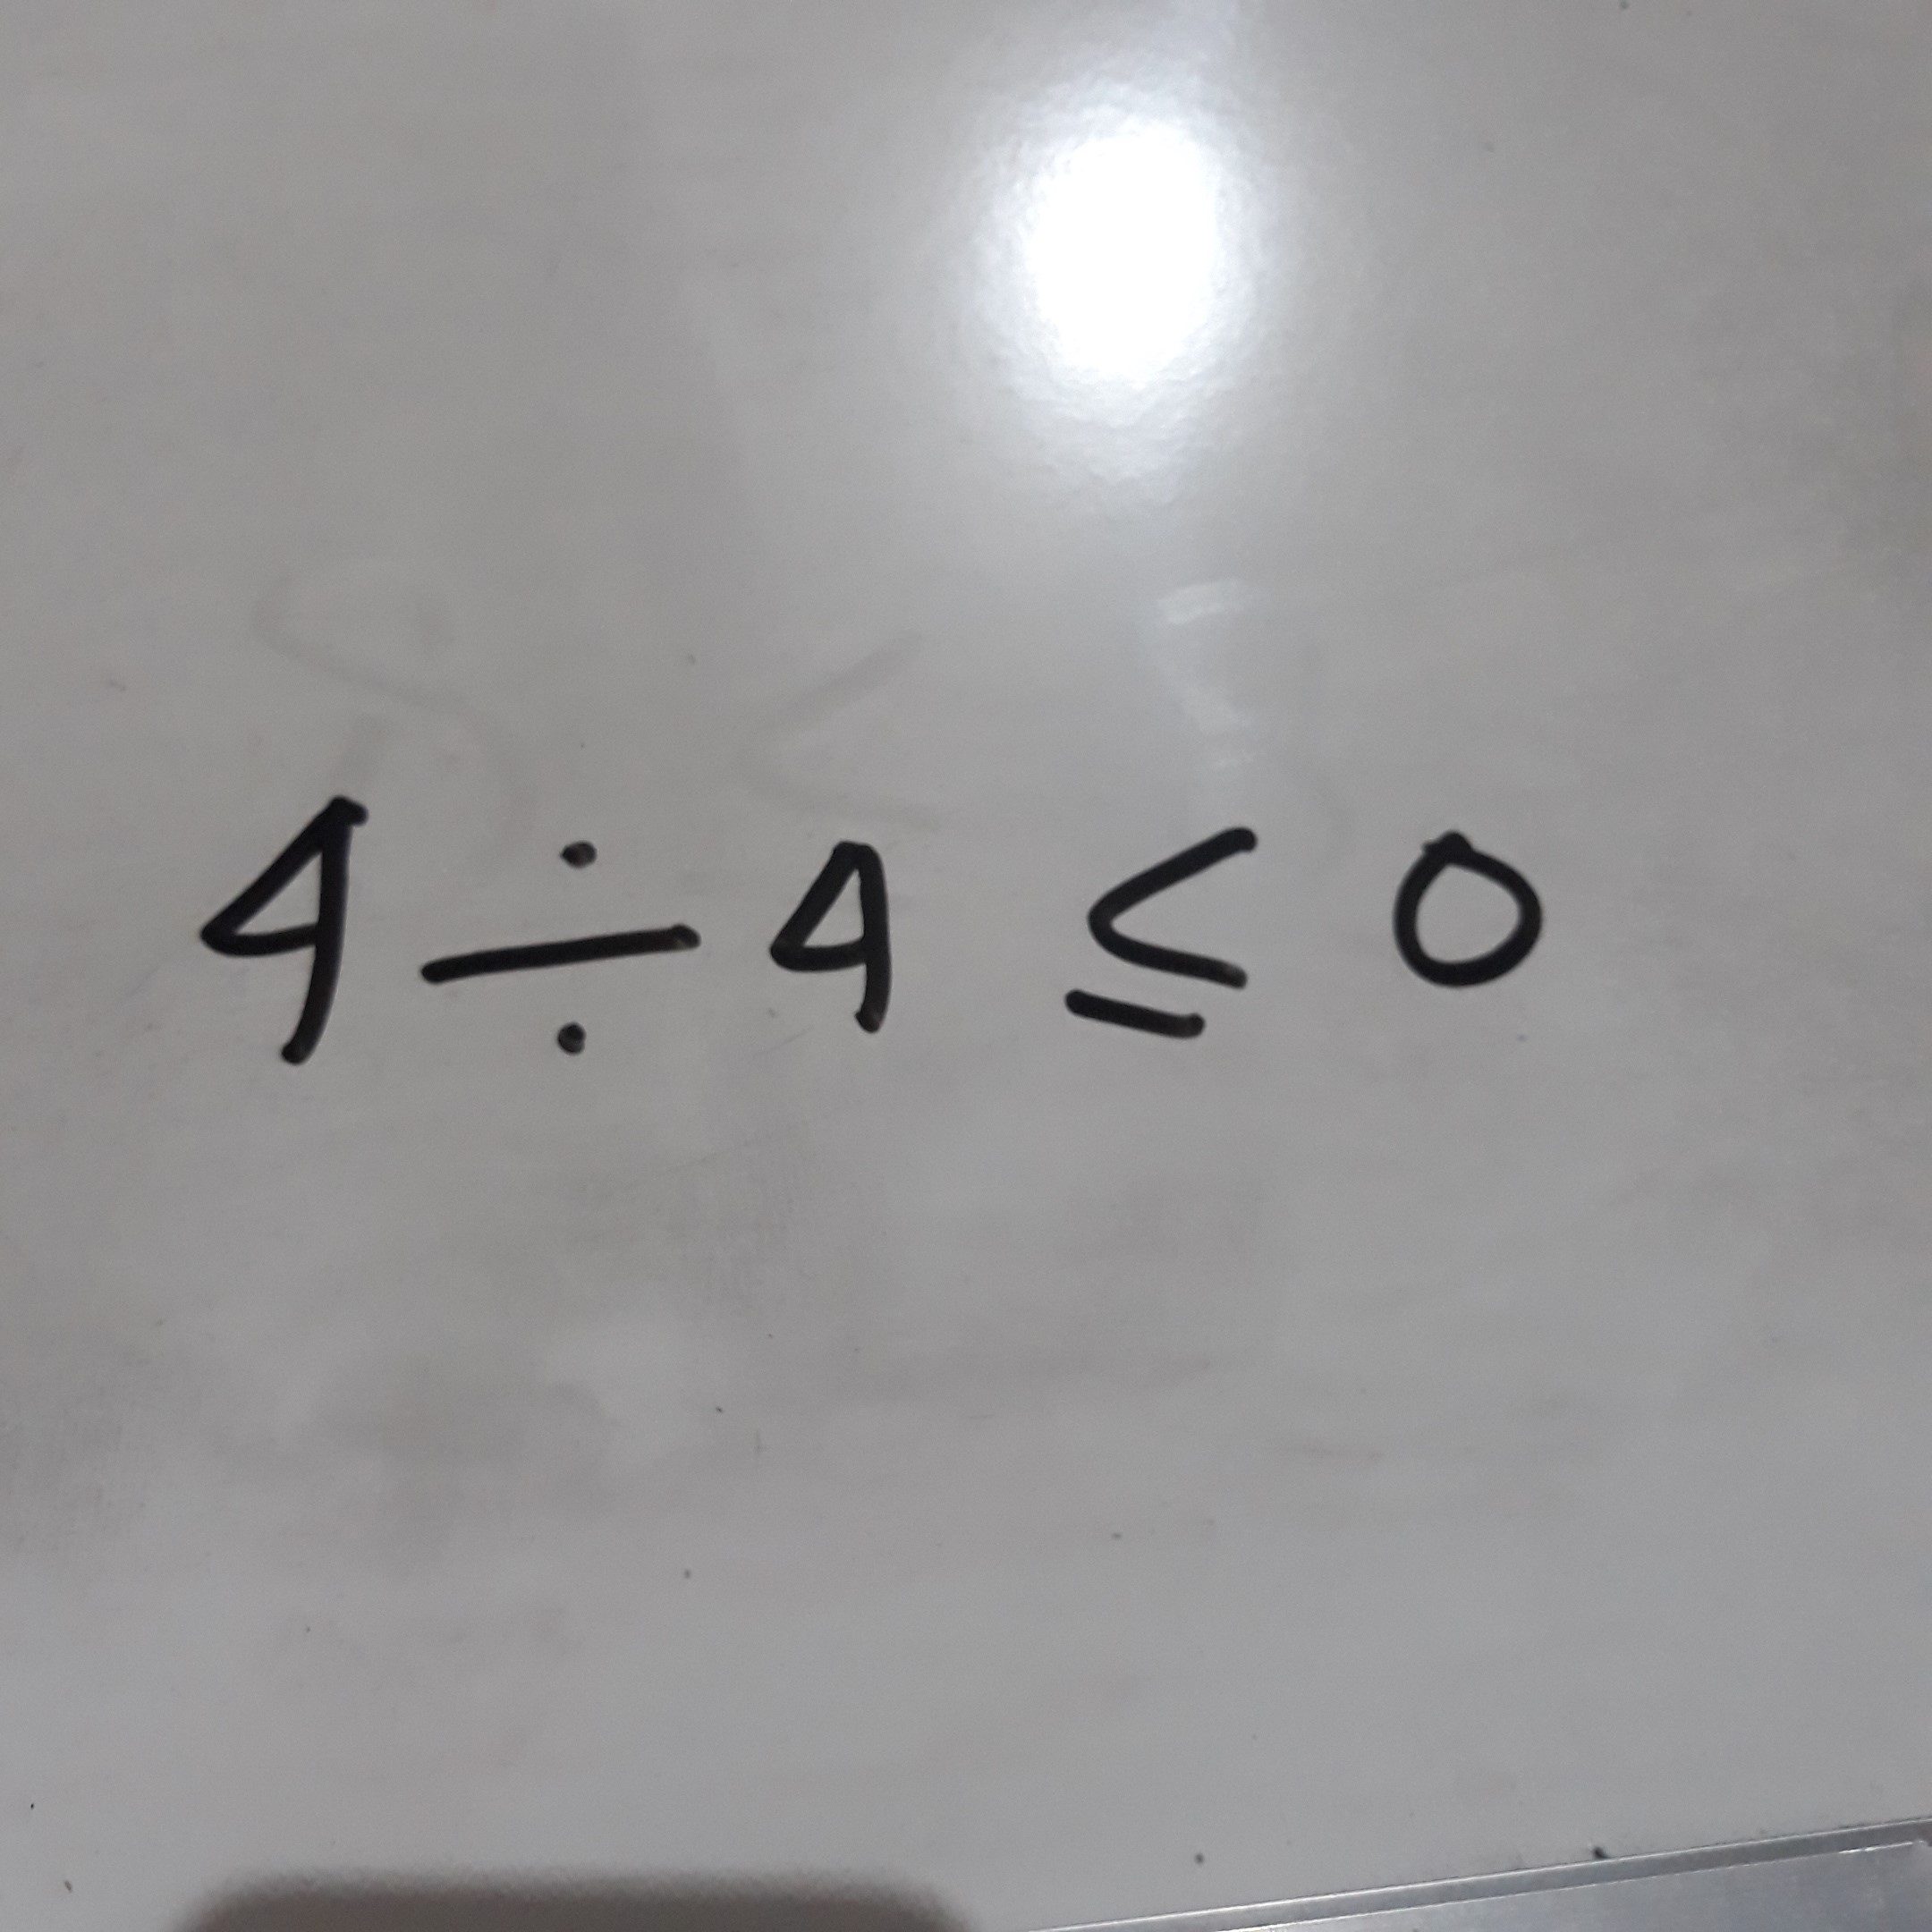div: (411, 784, 710, 1093)
lessthan-equal: (1048, 787, 1288, 1055)
num0: (1376, 819, 1555, 1002)
num4: (179, 770, 392, 1112), (751, 819, 923, 1072)
